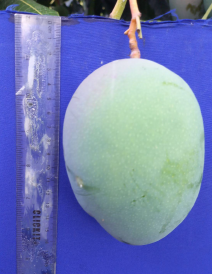Mango-sano: (63, 59, 204, 244)
